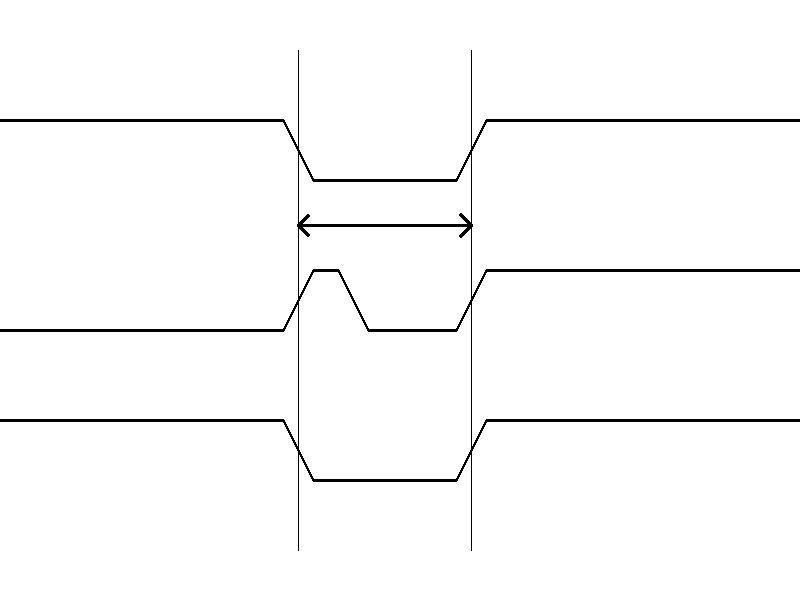double_arrow: (298, 210, 471, 240)
